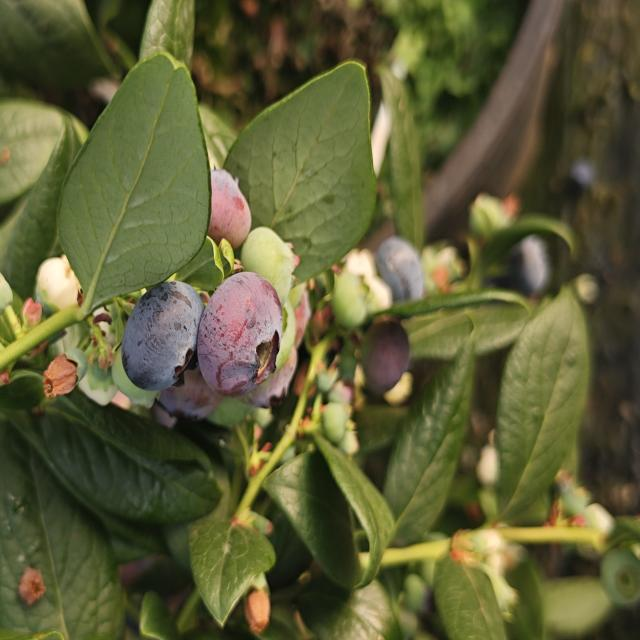ripe: (195, 270, 286, 400), (119, 278, 204, 395), (359, 316, 412, 398), (373, 235, 426, 307), (206, 166, 252, 247)
